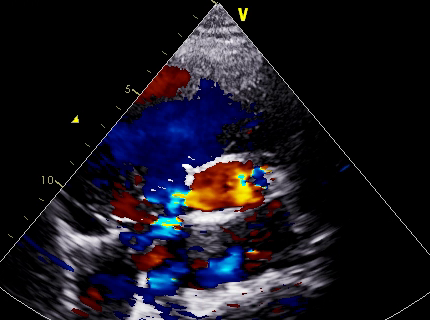TR: (113, 146, 199, 258)
